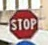stop: (8, 8, 39, 38)
